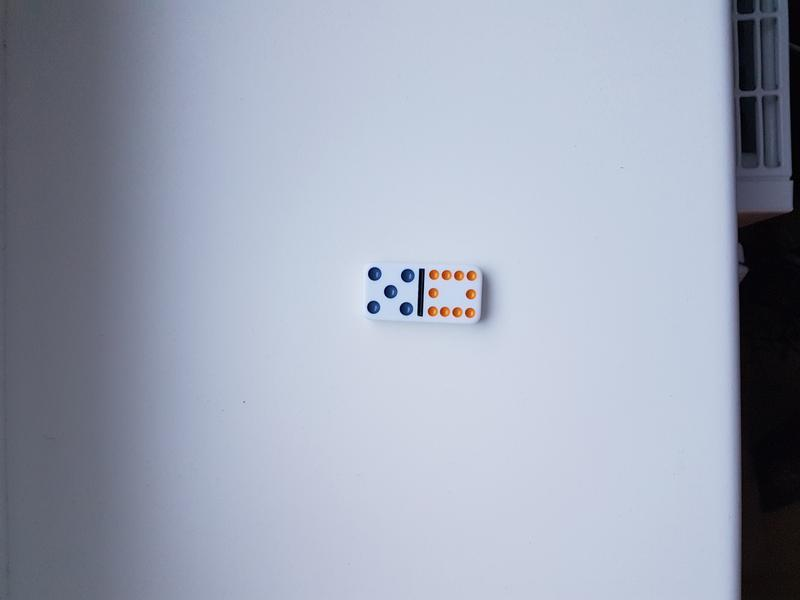Domino: (358, 258, 486, 327)
